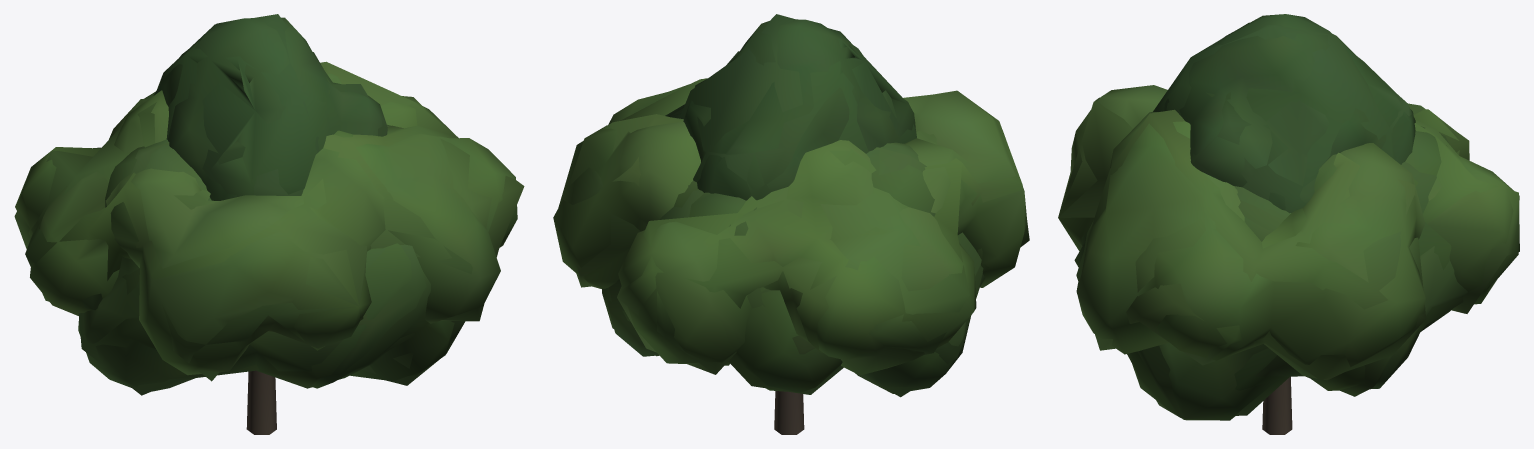
File: trees.glb
The picture shows the model from 3 angles, left to right: view 1: azimuth 30°, elevation 25°; view 2: azimuth 150°, elevation 25°; view 3: azimuth 270°, elevation 25°; orthographic projection.
Parts seen in each view (by area): view 1: tree_spread, tree_spread_lo, tree_round, tree_oval, tree_oval_lo, tree_round_lo; view 2: tree_spread, tree_spread_lo, tree_oval, tree_round, tree_oval_lo, tree_round_lo; view 3: tree_spread, tree_spread_lo, tree_oval, tree_oval_lo, tree_round, tree_round_lo.
Part boxes in pixels (box(x1,y1,x2,y2)): tree_spread: box(15, 73, 517, 434); tree_spread_lo: box(14, 61, 524, 381); tree_round: box(78, 125, 454, 391); tree_oval: box(153, 17, 387, 200); tree_oval_lo: box(157, 14, 386, 197); tree_round_lo: box(78, 124, 465, 395); tree_spread: box(553, 78, 1026, 434); tree_spread_lo: box(558, 78, 1029, 374); tree_oval: box(670, 19, 916, 200); tree_round: box(606, 142, 984, 393); tree_oval_lo: box(665, 14, 915, 200); tree_round_lo: box(602, 147, 983, 397); tree_spread: box(1058, 85, 1519, 434); tree_spread_lo: box(1058, 97, 1519, 380); tree_oval: box(1164, 14, 1415, 210); tree_oval_lo: box(1153, 22, 1415, 213); tree_round: box(1081, 131, 1467, 420); tree_round_lo: box(1074, 126, 1463, 417).
Size of the model in its own units: 2.74 by 2.56 by 2.61.
